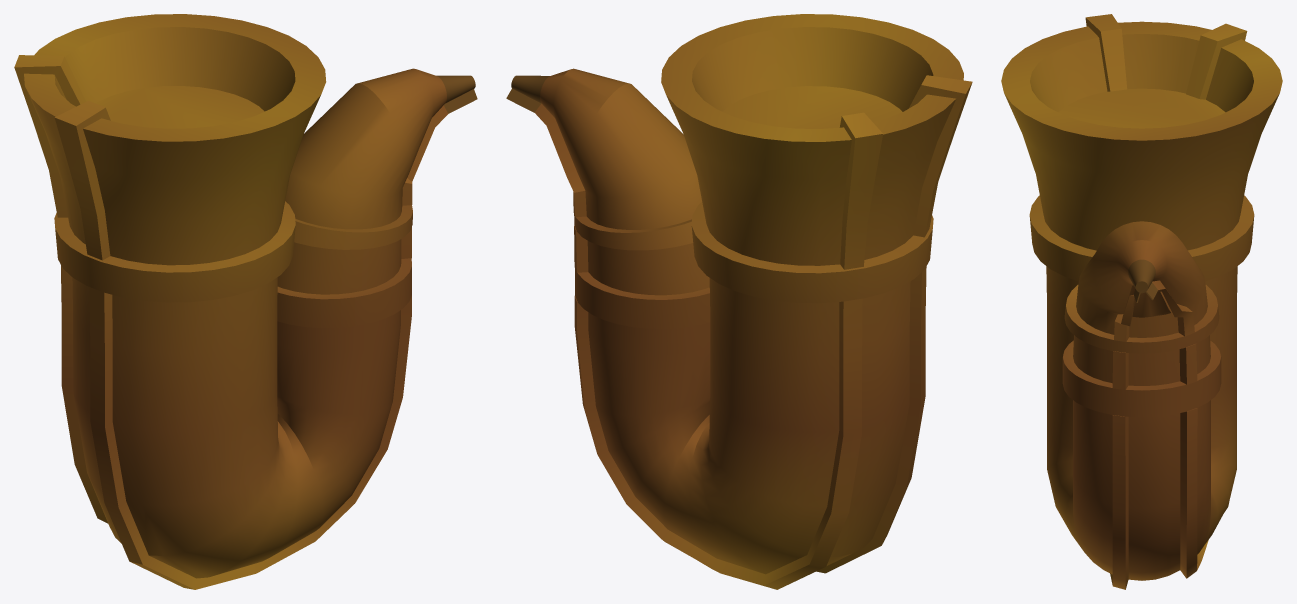
File: Tuba.fbx
The picture shows the model from 3 angles, left to right: view 1: azimuth 30°, elevation 25°; view 2: azimuth 150°, elevation 25°; view 3: azimuth 270°, elevation 25°; orthographic projection. The views are drawn at different scales.
Parts seen in each view (by area): view 1: Tuba; view 2: Tuba; view 3: Tuba.
Boxes of the visible parts, x1=… form: Tuba: x1=14, y1=14, x2=477, y2=589; Tuba: x1=506, y1=14, x2=972, y2=589; Tuba: x1=1001, y1=14, x2=1282, y2=589.
Size of the model in its own units: 120 by 135 by 72.27.
